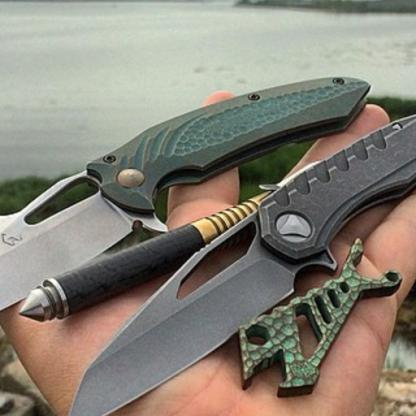knife: (59, 90, 415, 416), (0, 70, 375, 361)
